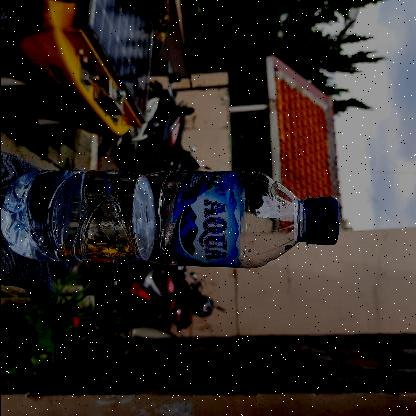Plastic Bottle: (0, 166, 343, 272)
